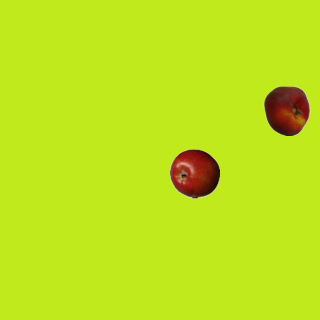Apple Braeburn: (169, 148, 219, 198)
Nectarine Flat: (261, 85, 311, 135)
